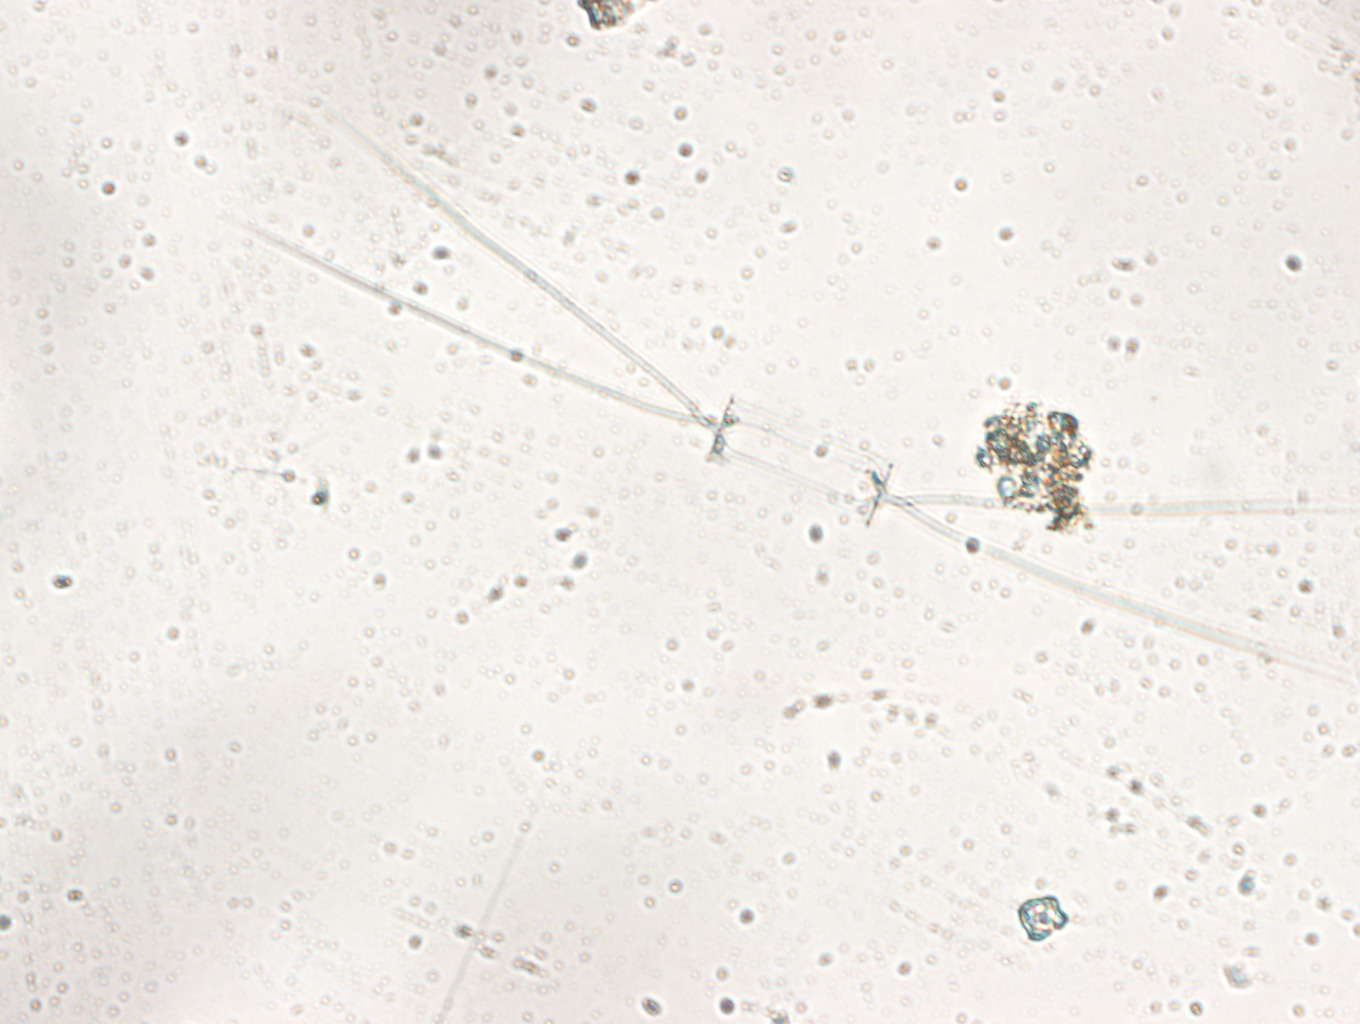chaetoceros: (221, 109, 1357, 689)
